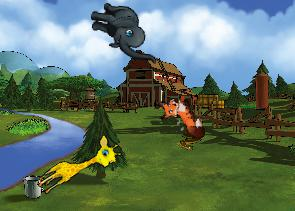elephant: (86, 1, 161, 64)
fox: (153, 88, 208, 150)
giraffe: (33, 130, 125, 205)
